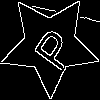P: (24, 20, 79, 74)
